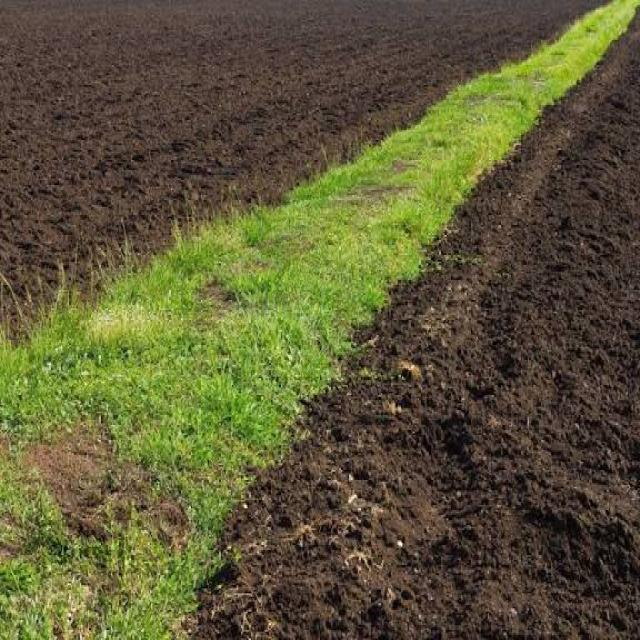suelo_humedo: (79, 57, 554, 573)
